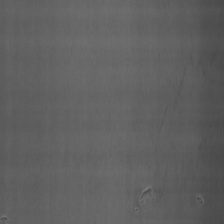rolled_pit: (135, 174, 154, 219), (191, 187, 206, 207)
